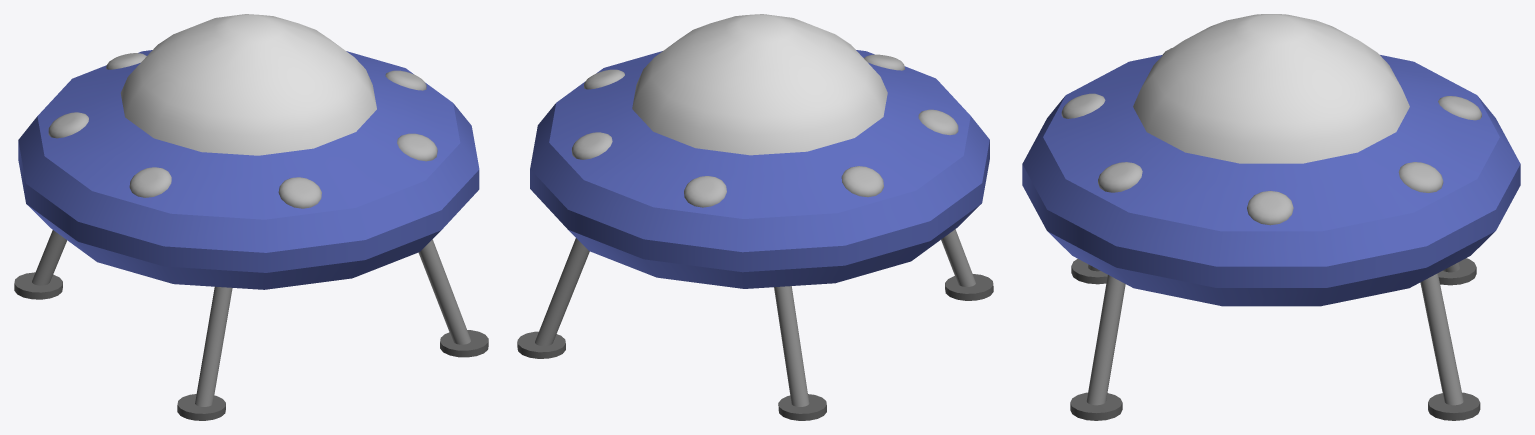
File: UFO.fbx
3 renders of one model, left to right at view 1: azimuth 30°, elevation 25°; view 2: azimuth 150°, elevation 25°; view 3: azimuth 270°, elevation 25°, orthographic. The views are drawn at different scales.
Visible parts, largest first — view 1: UFO; view 2: UFO; view 3: UFO.
Boxes of the visible parts, <box> form: UFO: <box>14,14,488,420</box>; UFO: <box>517,14,993,420</box>; UFO: <box>1022,14,1520,420</box>.
Bounding box in the file's own units: 18.3 × 13.11 × 18.78.
Materials: 1 (1 with a texture image).
